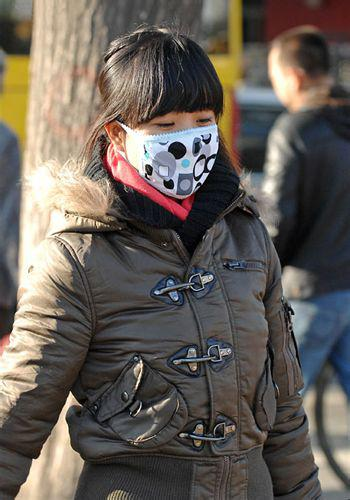OK: (131, 99, 226, 194)
